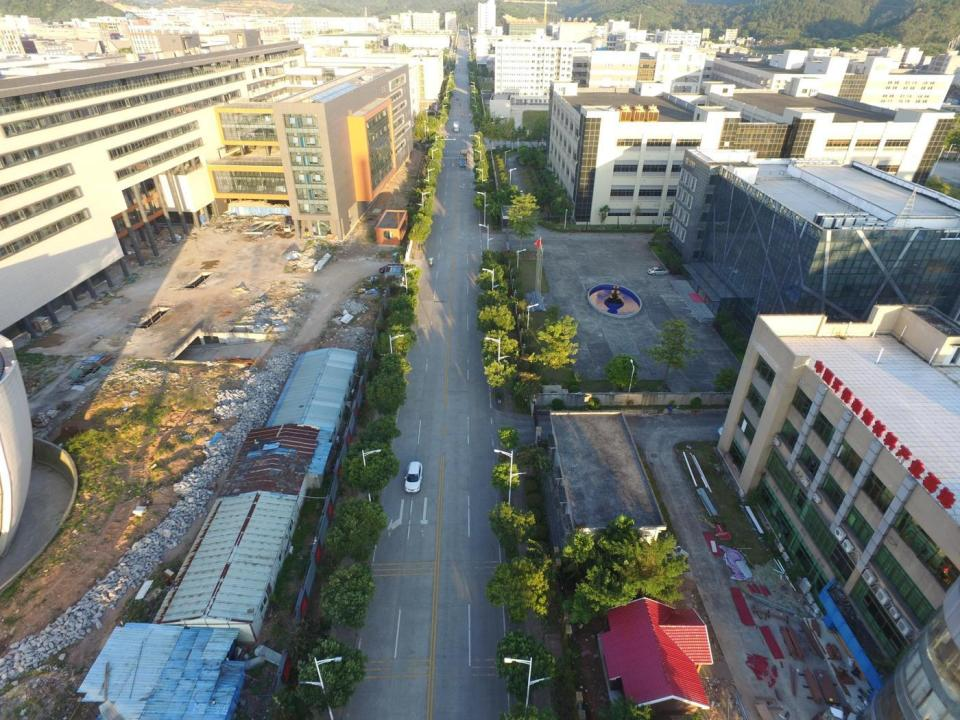bus: (460, 149, 468, 159)
car: (404, 458, 424, 494), (647, 265, 669, 276), (378, 264, 396, 274)
truck: (459, 154, 466, 168), (453, 119, 460, 133)
van: (283, 221, 296, 234)
